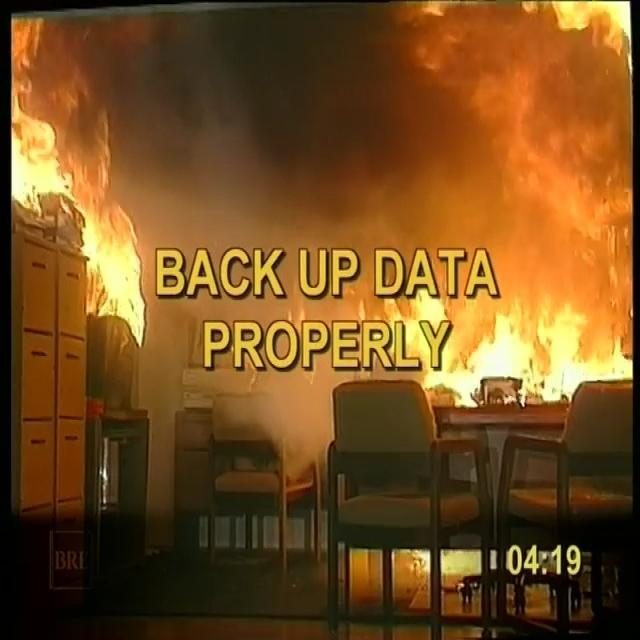Fire: (5, 0, 640, 401)
